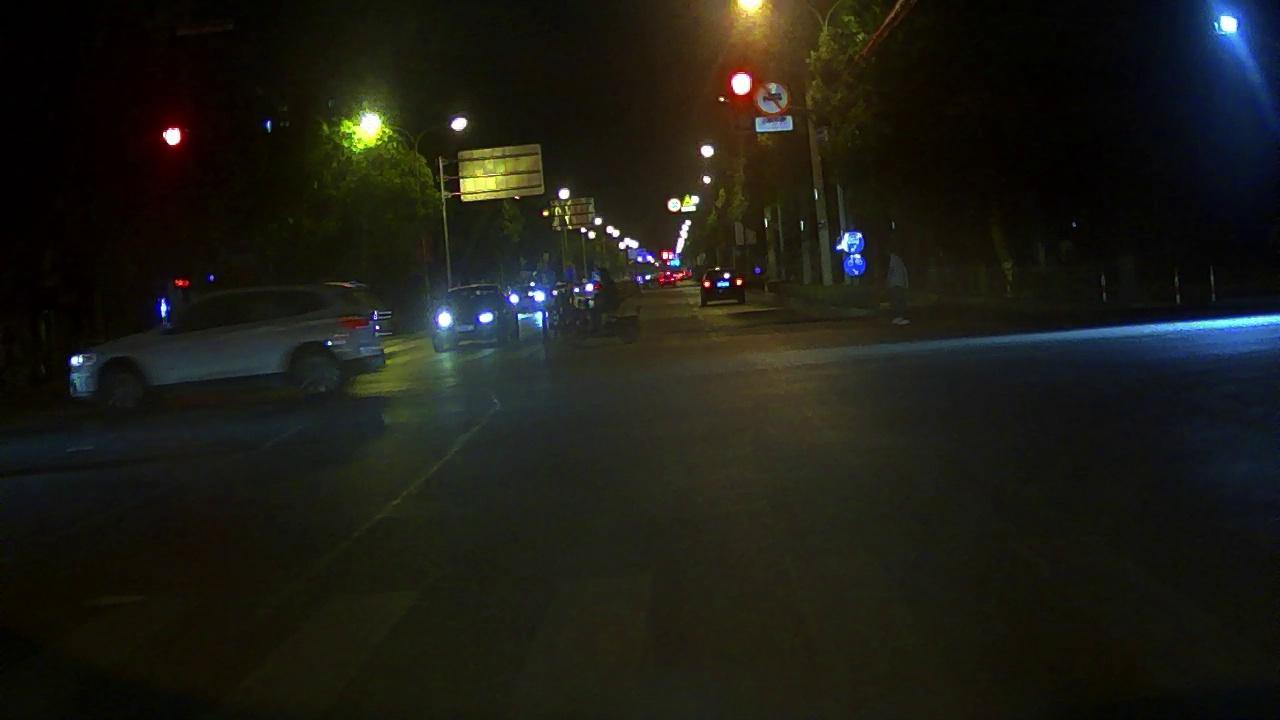traffic_light: (156, 123, 185, 153), (729, 69, 755, 99)
